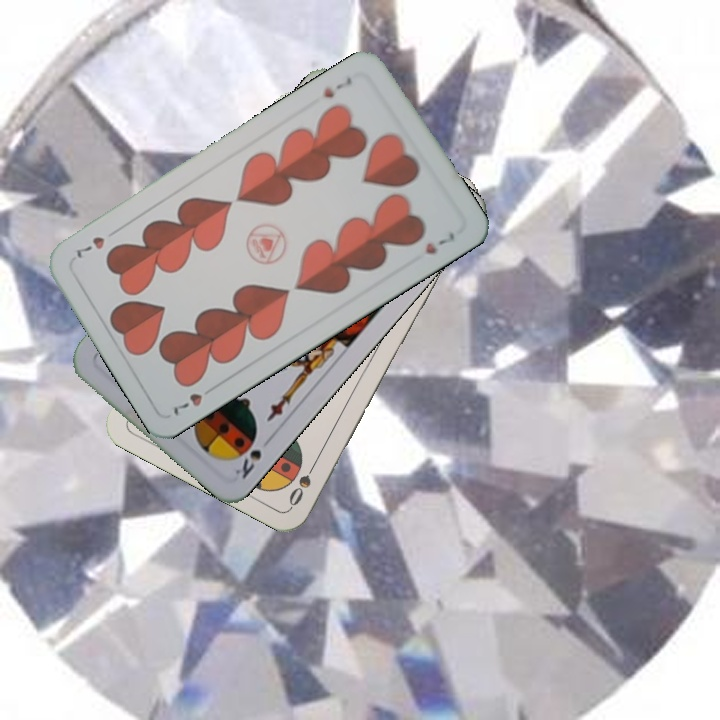H7: (169, 380, 218, 419), (319, 72, 355, 101)
SK: (230, 431, 264, 482)
SO: (284, 455, 321, 509)
